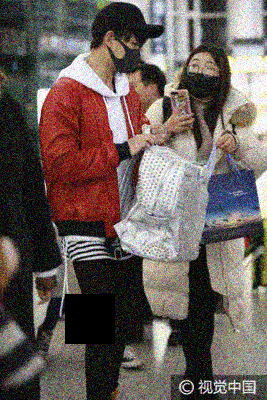with_mask: (183, 57, 221, 99), (114, 40, 142, 76)
